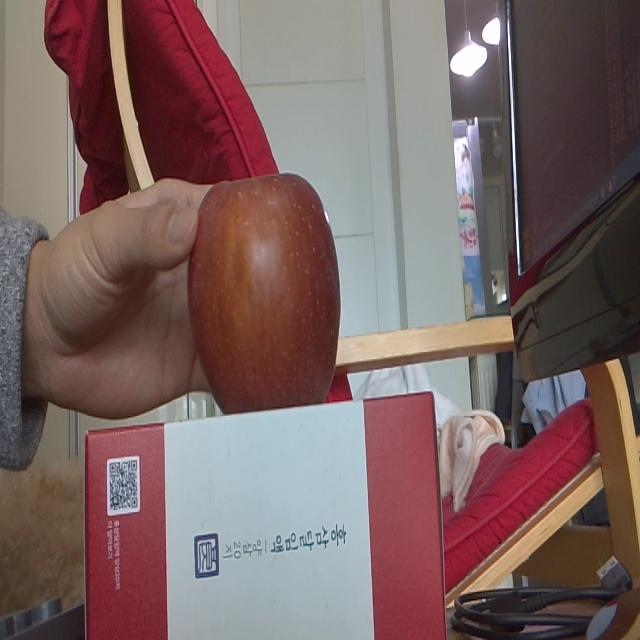apple: (188, 175, 347, 416)
